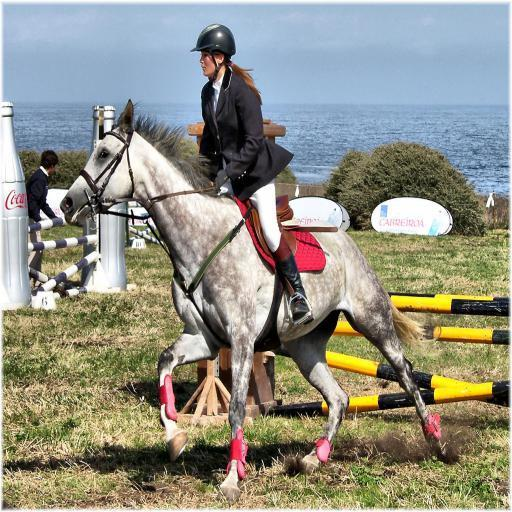horse: (56, 96, 448, 504)
